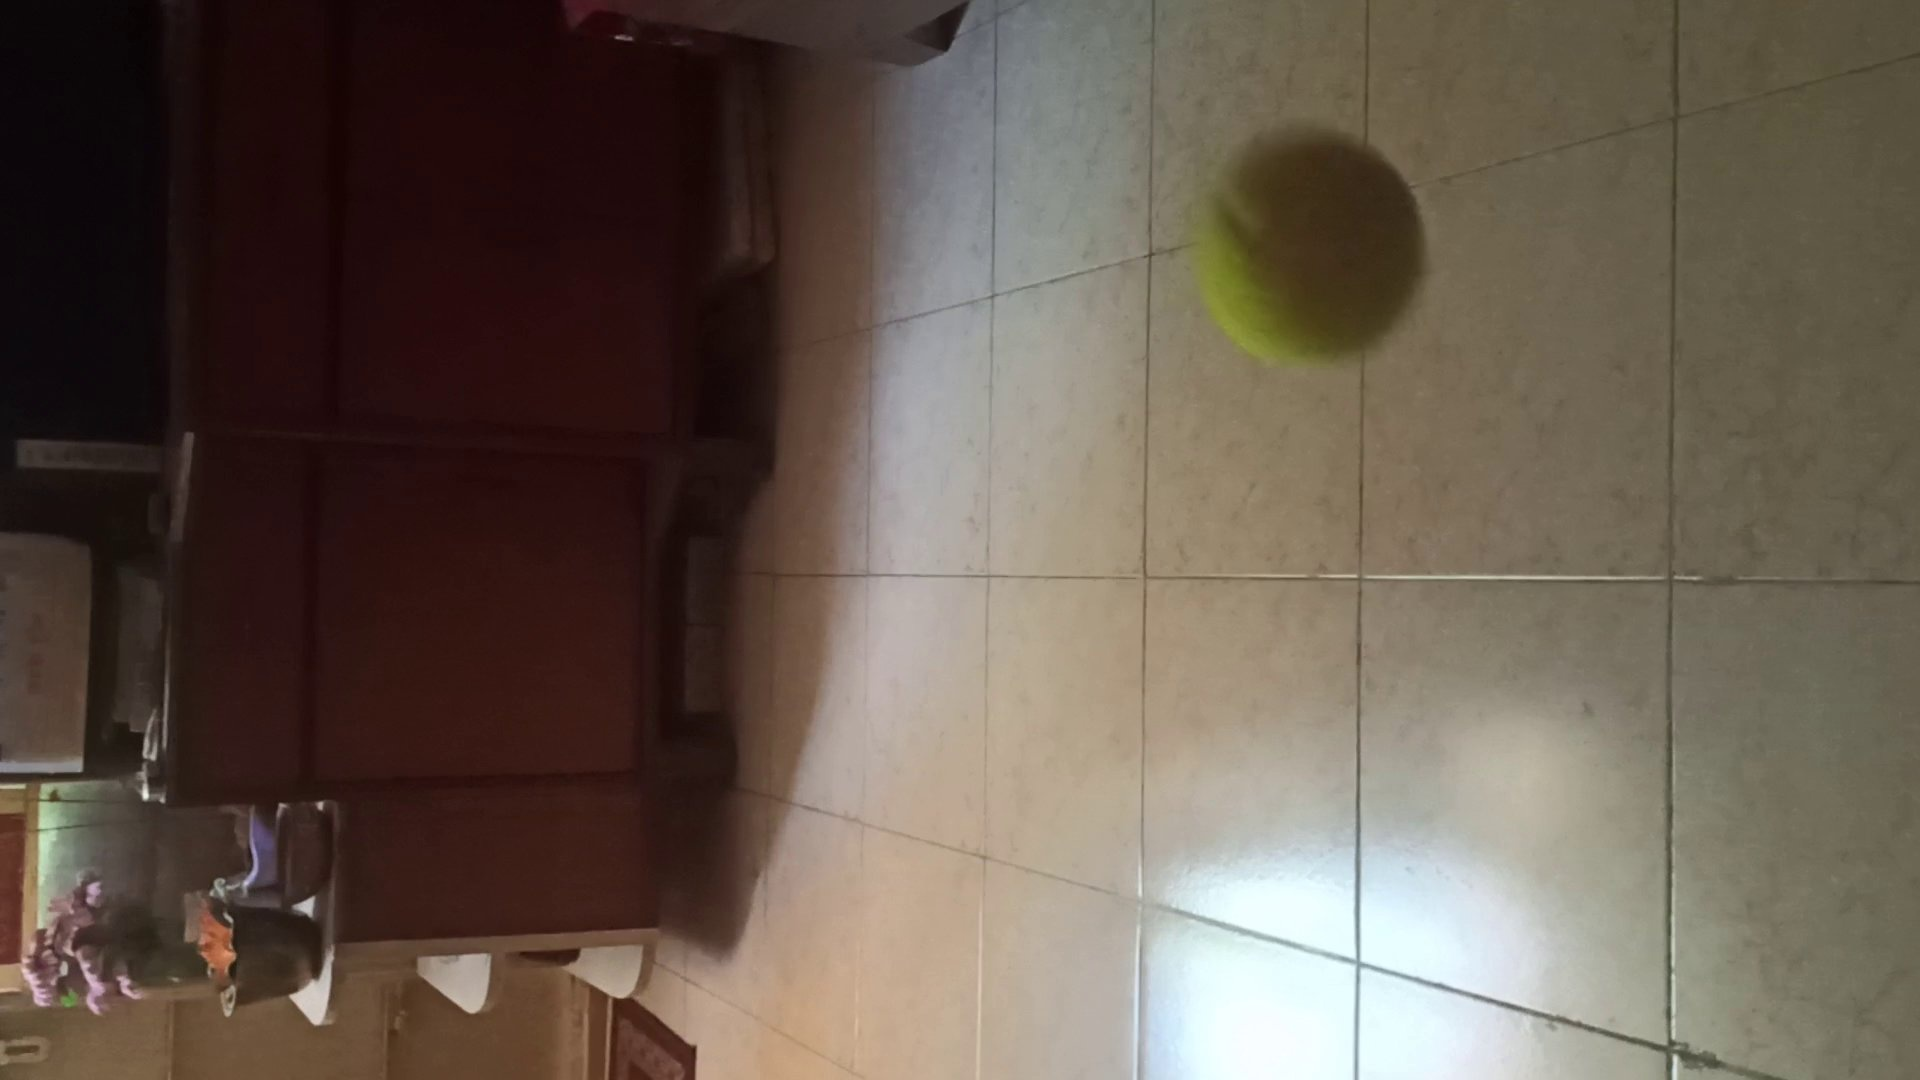Tennis-Ball: (1189, 124, 1429, 371)
